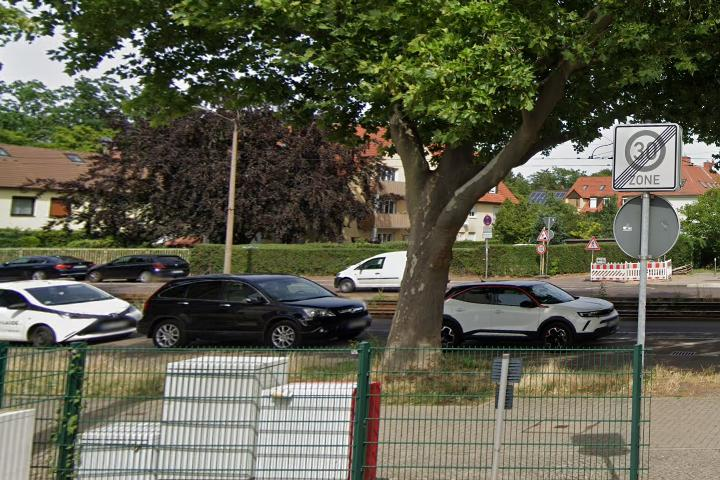traffic_sign: (624, 129, 667, 172), (585, 236, 601, 250), (536, 226, 550, 241)
vehicle: (137, 271, 377, 355), (426, 277, 628, 355), (1, 277, 145, 352), (332, 246, 442, 295), (86, 252, 192, 285), (1, 254, 98, 284)
